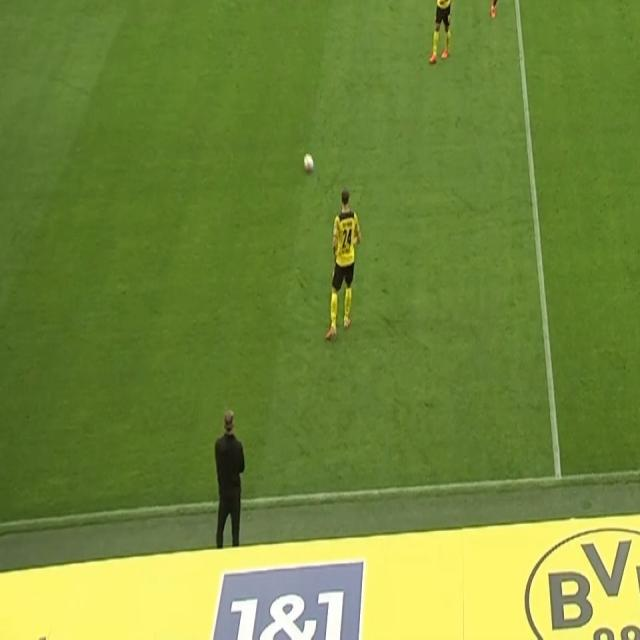ball: (302, 151, 315, 176)
